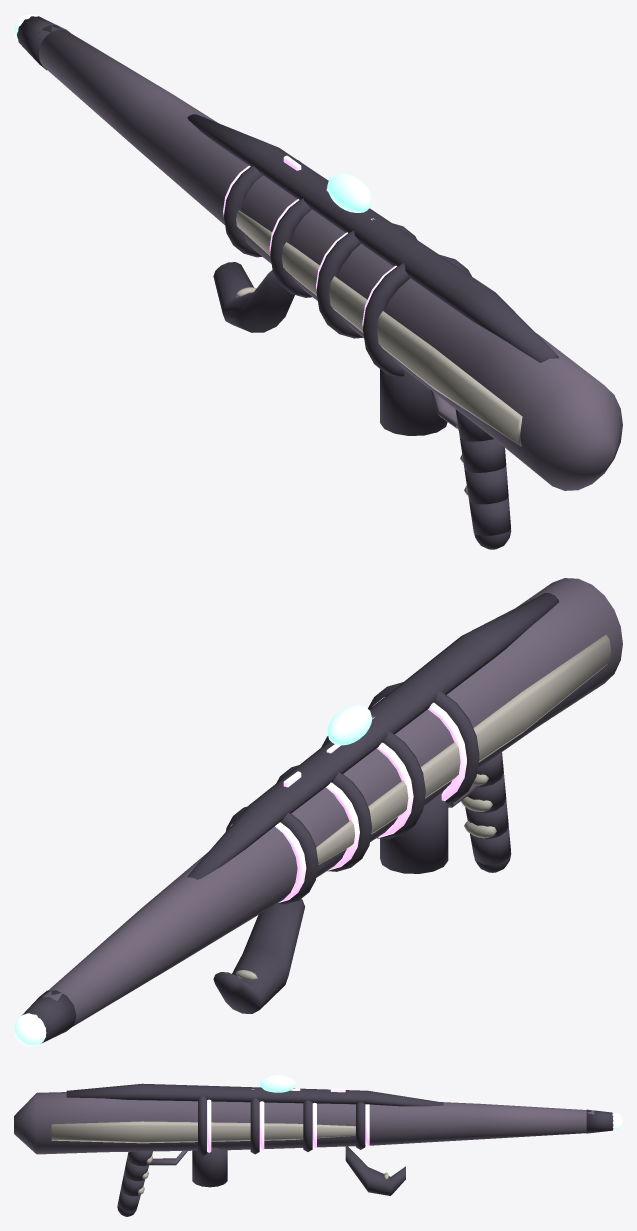
The model's file is a_rifle.glb.
The picture shows the model from 3 angles, top to bottom: view 1: azimuth 30°, elevation 25°; view 2: azimuth 150°, elevation 25°; view 3: azimuth 270°, elevation 25°; orthographic projection. The views are drawn at different scales.
Visible parts, largest first — view 1: A_rifle; view 2: A_rifle; view 3: A_rifle.
Boxes of the visible parts, x1=… form: A_rifle: x1=14, y1=14, x2=622, y2=549; A_rifle: x1=14, y1=578, x2=622, y2=1046; A_rifle: x1=14, y1=1075, x2=622, y2=1216.
Size of the model in its own units: 0.094 by 0.2052 by 0.808.
